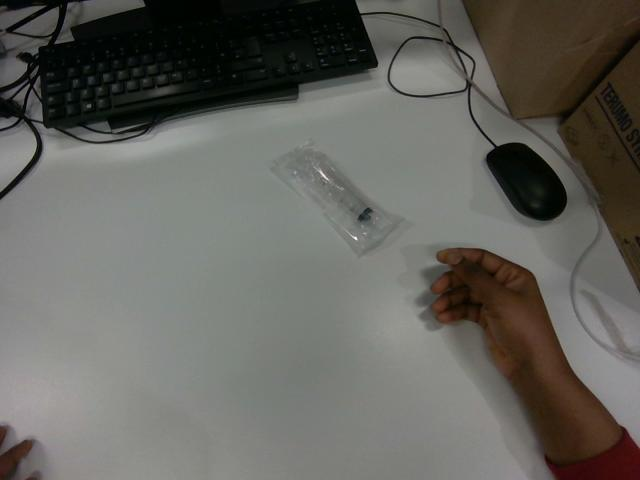syringe: (270, 141, 402, 255)
